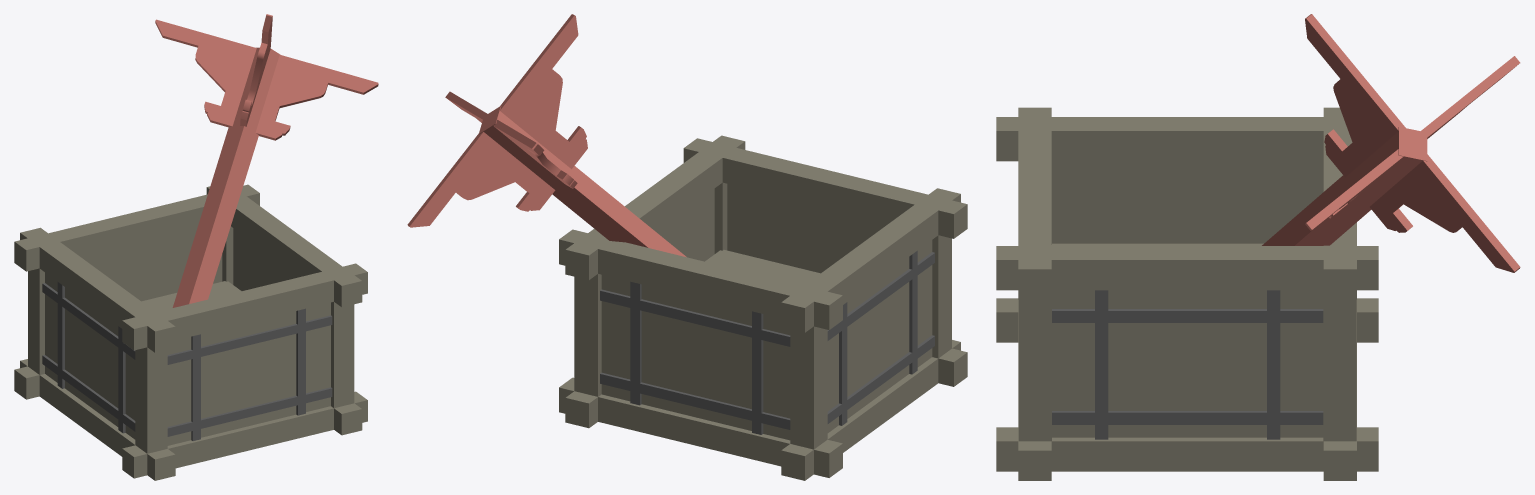
The model's file is Broken_Light_Stand.fbx.
3 renders of one model, left to right at view 1: azimuth 30°, elevation 25°; view 2: azimuth 150°, elevation 25°; view 3: azimuth 270°, elevation 25°, orthographic. The views are drawn at different scales.
Parts seen in each view (by area): view 1: pCube86; view 2: pCube86; view 3: pCube86.
Boxes of the visible parts, box(x1,y1,x2,y2) form: pCube86: box(14, 14, 378, 480); pCube86: box(407, 14, 967, 480); pCube86: box(996, 14, 1520, 480).
Size of the model in its own units: 582 by 529 by 536.
